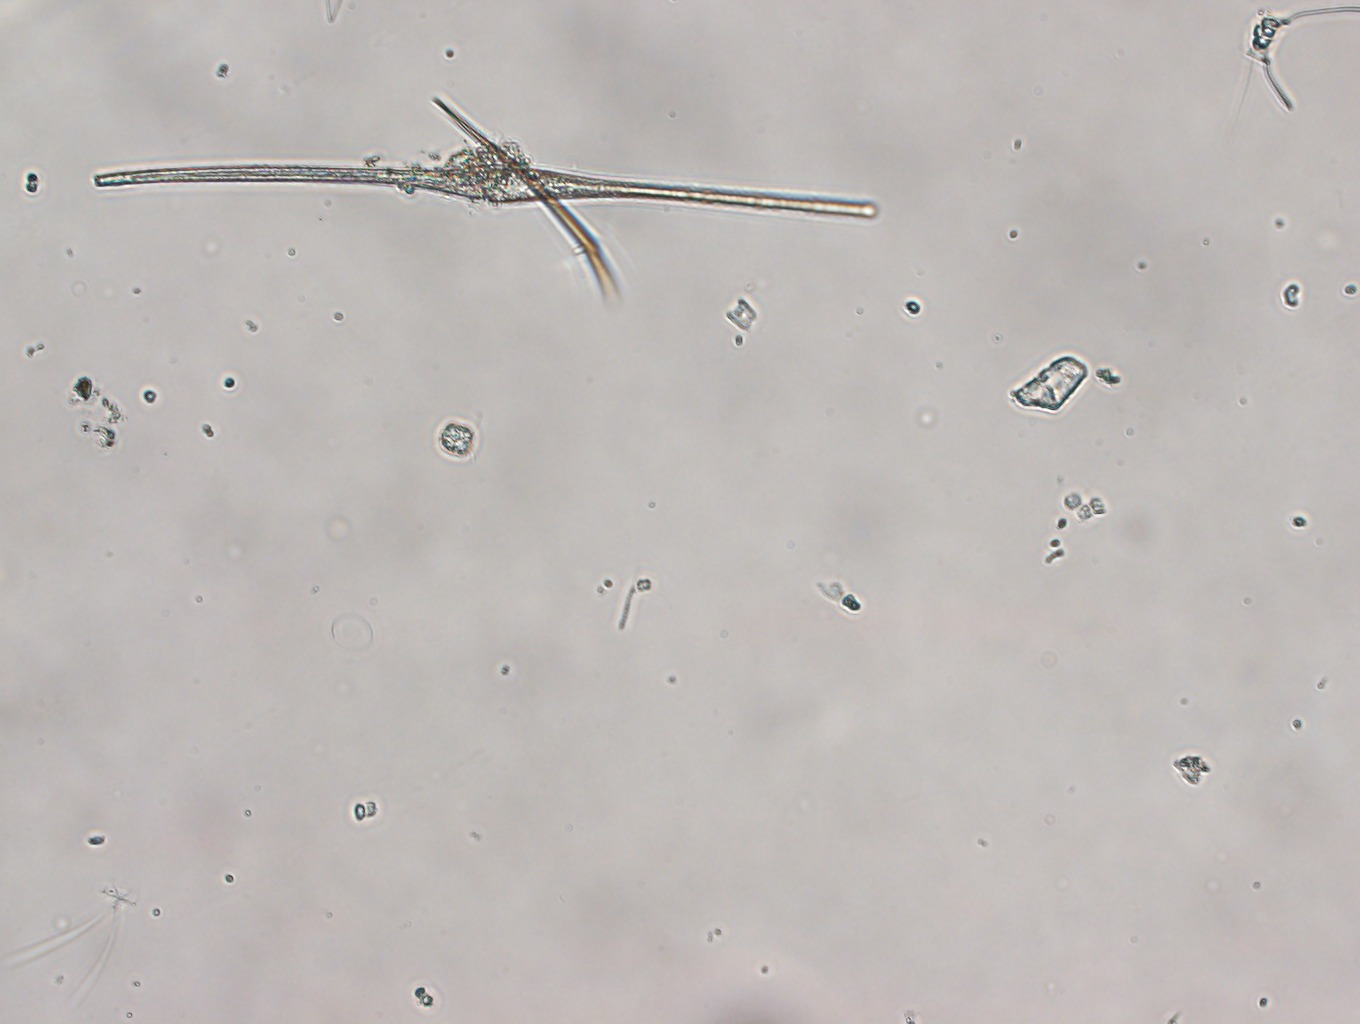ceratium fusus: (87, 123, 884, 228)
